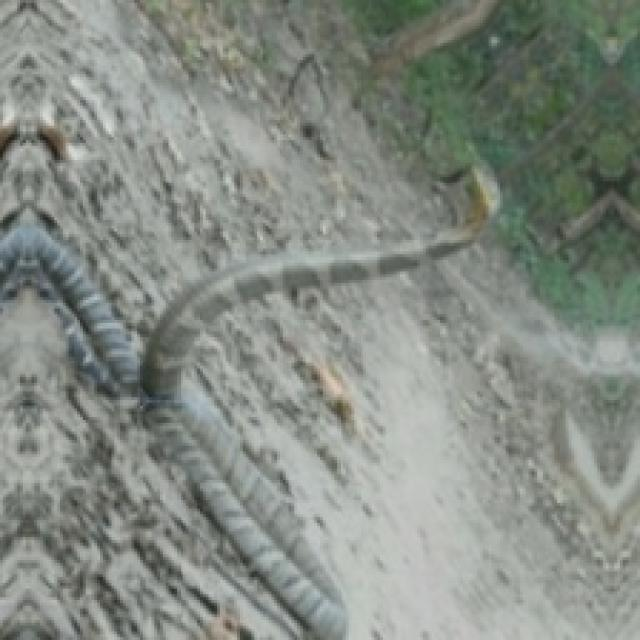king cobra: (0, 120, 489, 637)
